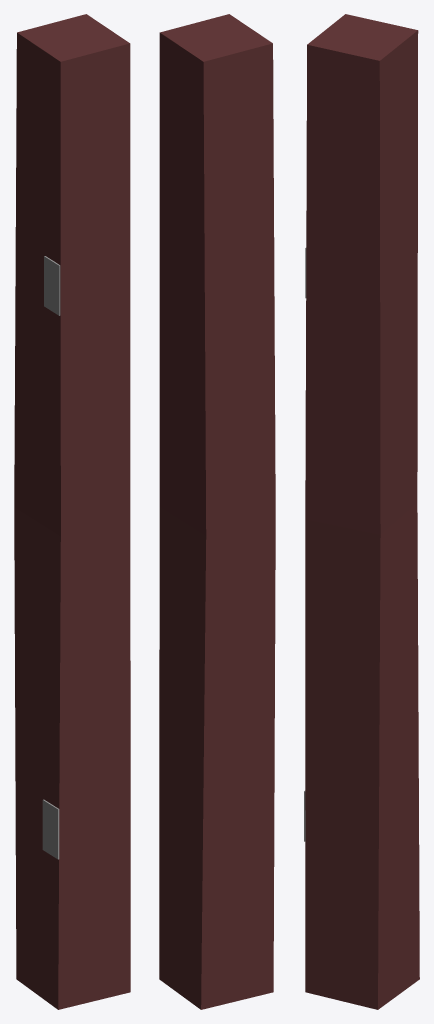
Rendered from Pillar2.fbx.
3 views of the same model, side by side, from view 1: azimuth 30°, elevation 25°; view 2: azimuth 210°, elevation 25°; view 3: azimuth 330°, elevation 25° (orthographic).
Parts seen in each view (by area): view 1: Pillar2; view 2: Pillar2; view 3: Pillar2.
Part boxes in pixels (x1,y1,x2,y2): Pillar2: (14, 14, 130, 1009); Pillar2: (159, 14, 275, 1009); Pillar2: (304, 14, 419, 1009).
Bounding box in the file's own units: 11.21 × 132 × 11.21.
